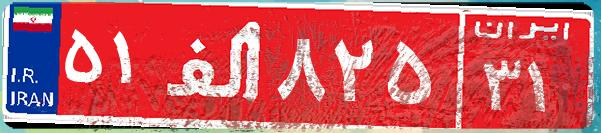1: (110, 28, 158, 105), (525, 38, 570, 115)
2: (330, 28, 385, 110)
3: (475, 38, 525, 113)
5: (385, 28, 445, 110), (57, 26, 110, 107)
8: (273, 28, 330, 110)
الف: (158, 15, 273, 115)
